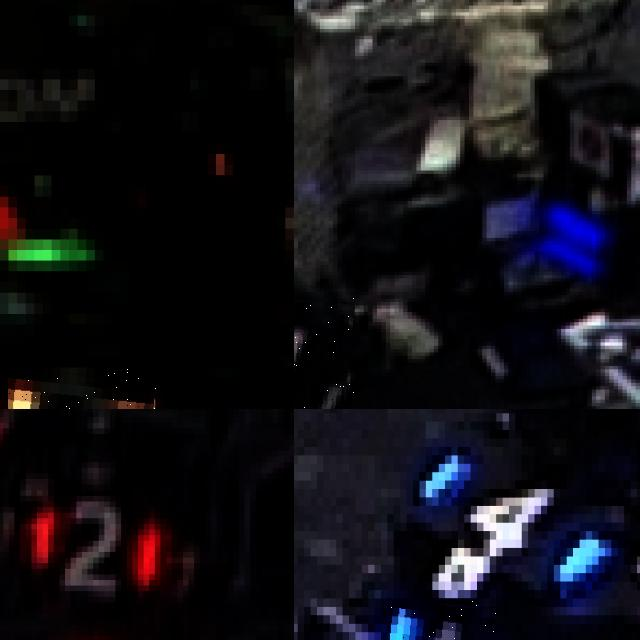B4: (387, 598, 496, 640)
R2: (26, 496, 160, 597)
R4: (294, 292, 354, 409)
Rs: (8, 367, 155, 409)
